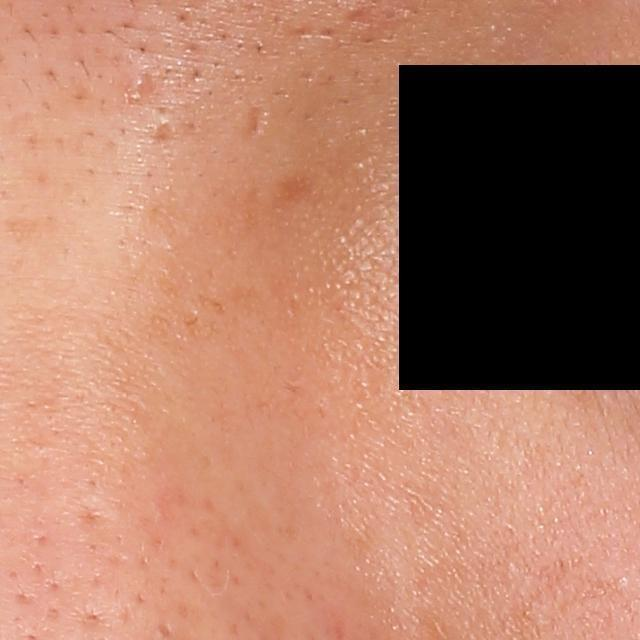atrophic_scar: (244, 103, 269, 139)
